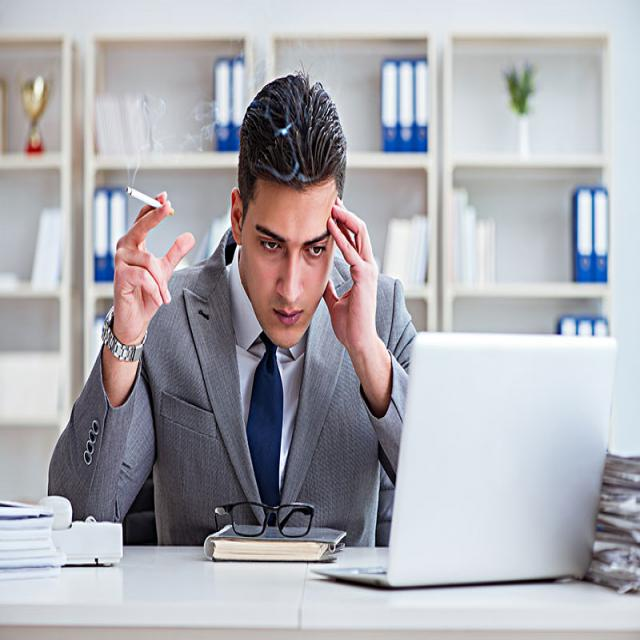smoking: (126, 187, 174, 215)
